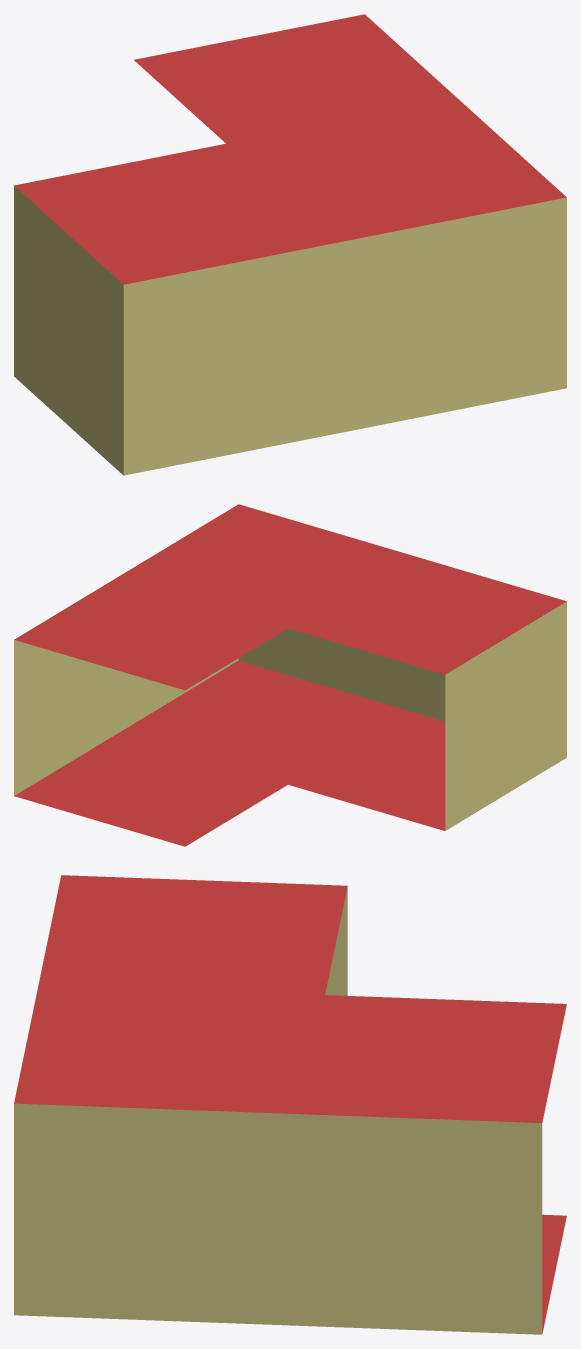
The picture shows the model from 3 angles, top to bottom: view 1: azimuth 30°, elevation 25°; view 2: azimuth 150°, elevation 25°; view 3: azimuth 270°, elevation 25°; orthographic projection. The views are drawn at different scales.
Size of the model in its own units: 16.67 by 15.71 by 6.64.
